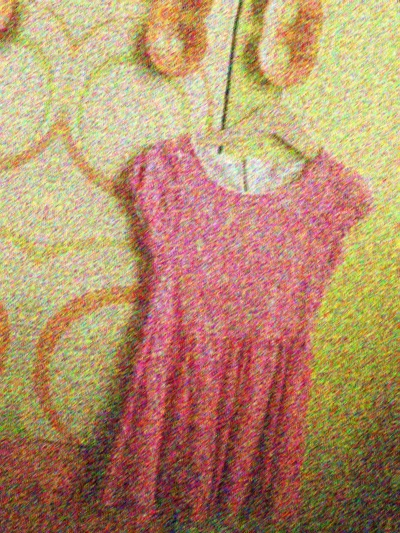Dress: (39, 83, 384, 533), (0, 21, 27, 488)
